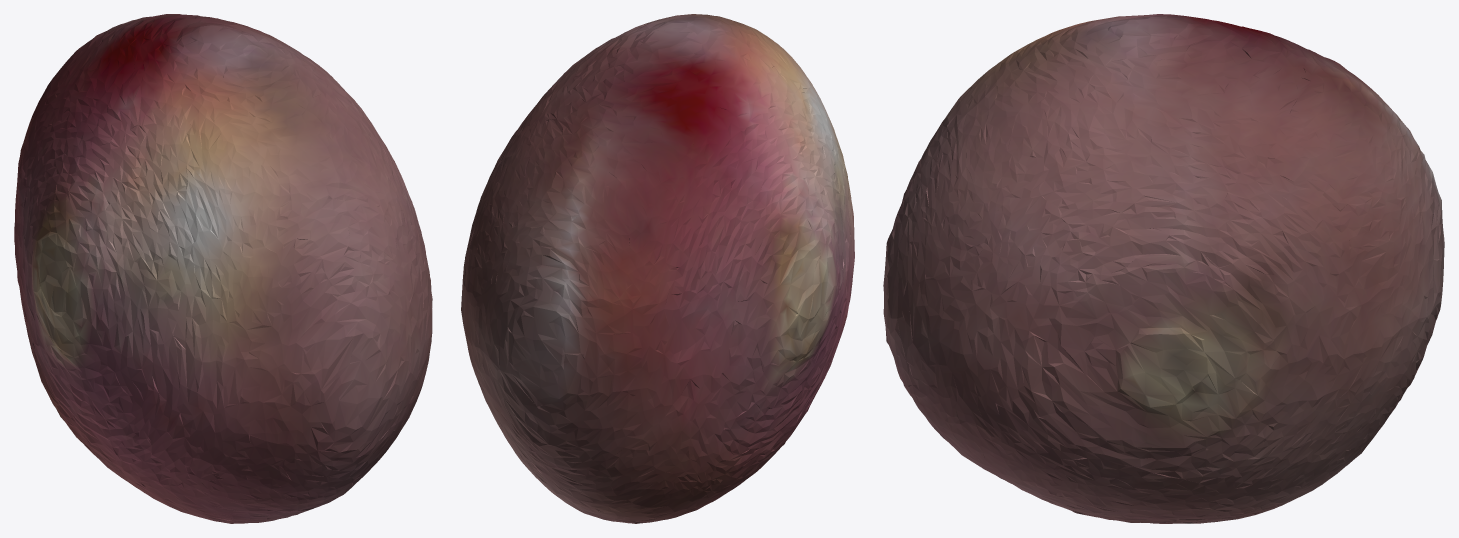
The model's file is onion_2.glb.
3 renders of one model, left to right at view 1: azimuth 30°, elevation 25°; view 2: azimuth 150°, elevation 25°; view 3: azimuth 270°, elevation 25°, orthographic. The views are drawn at different scales.
Parts seen in each view (by area): view 1: geometry_0; view 2: geometry_0; view 3: geometry_0.
Boxes of the visible parts, x1=… form: geometry_0: x1=14, y1=14, x2=432, y2=523; geometry_0: x1=461, y1=14, x2=854, y2=523; geometry_0: x1=883, y1=14, x2=1444, y2=523.
Size of the model in its own units: 0.6869 by 0.9576 by 1.
